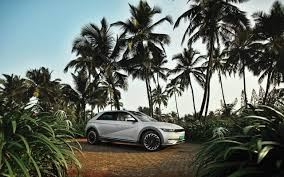Honda Ioniq: (73, 105, 192, 160)
